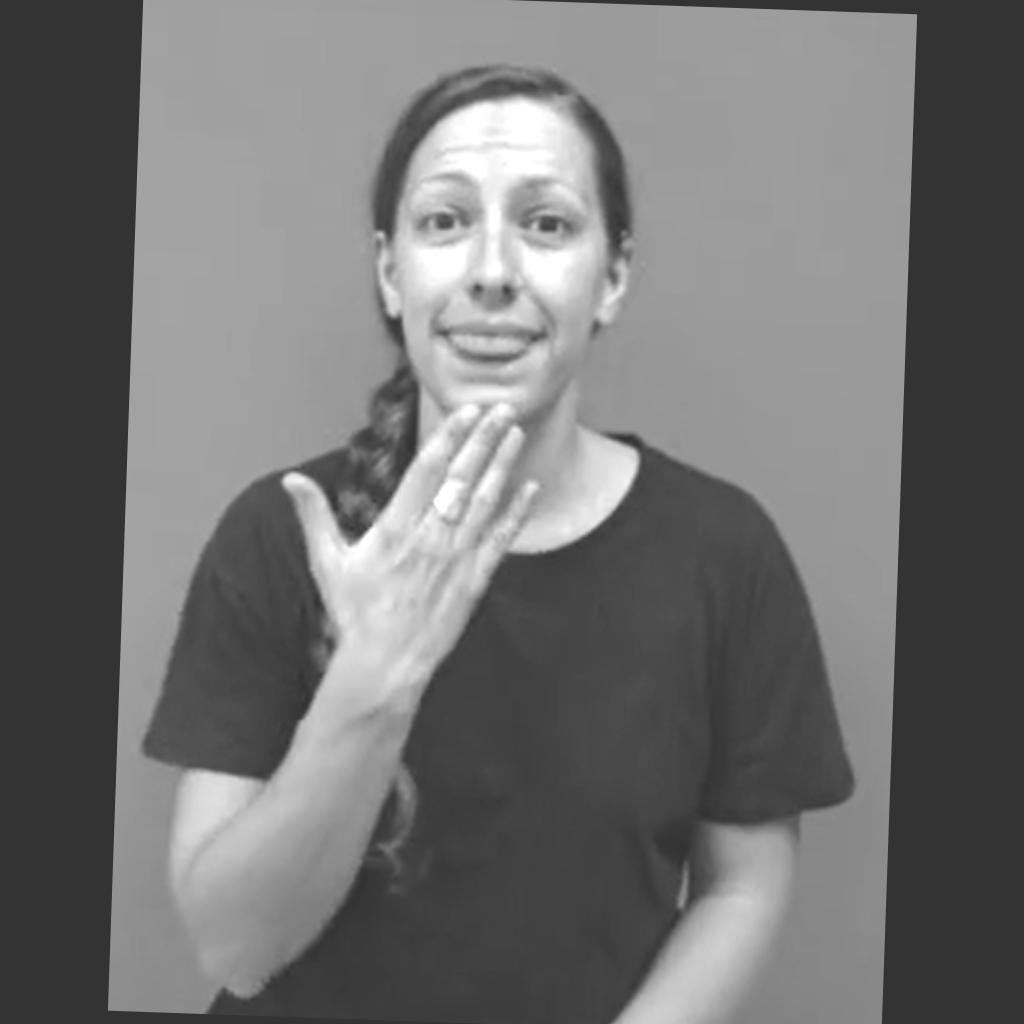thank-you: (278, 393, 546, 660)
